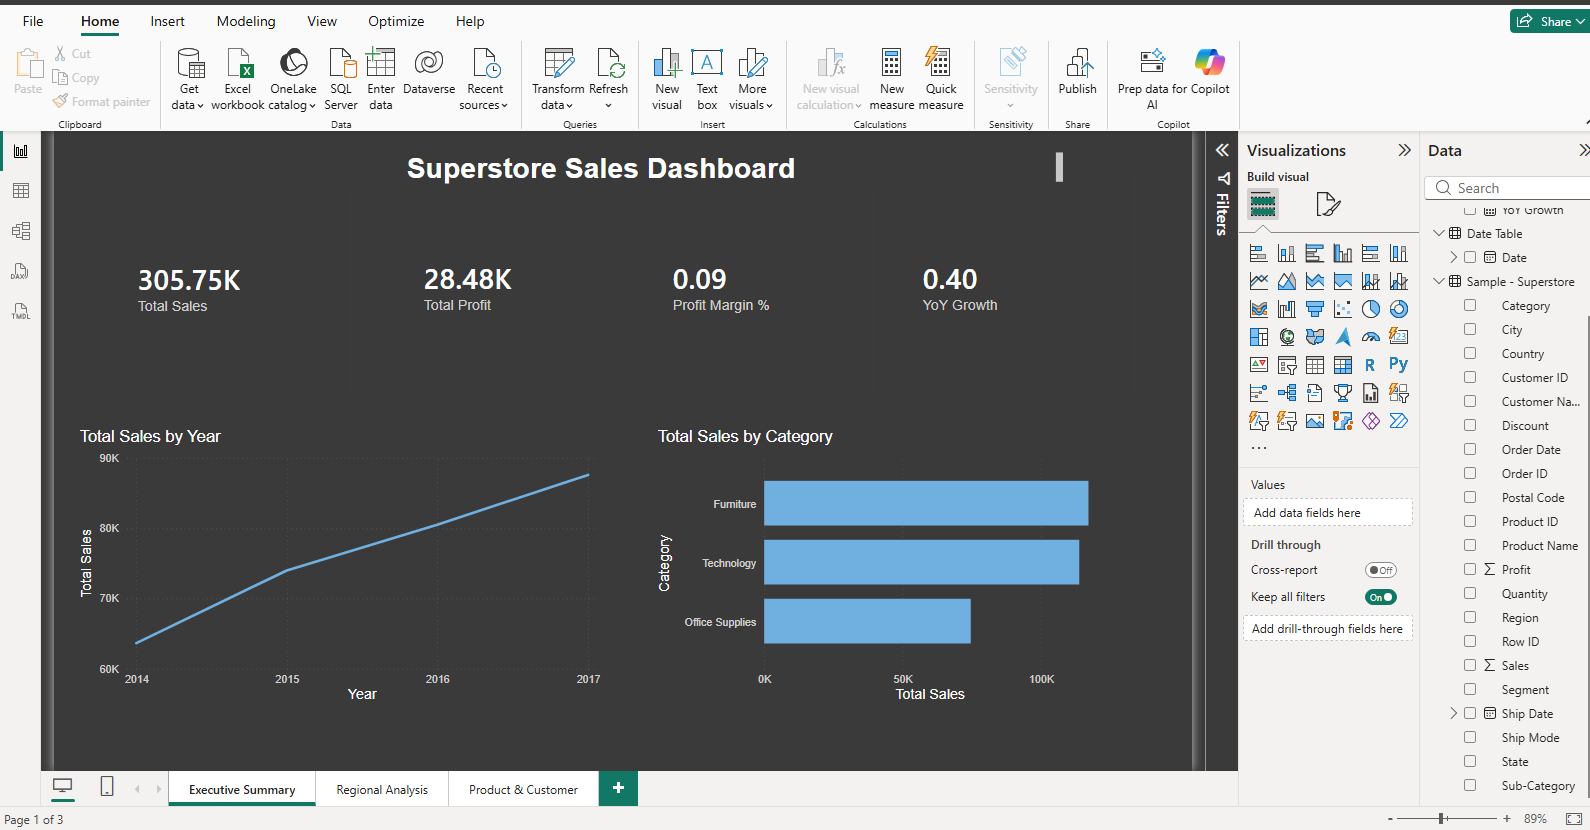

The dashboard page shown, as its layout file describes it:
{"tool":"powerbi","page":{"name":"Executive Summary","canvas":[1280,720],"ordinal":0},"visuals":[{"type":"cardVisual","fields":{"Data":["_Measures.Total Sales"]},"box":[64.3,34.7,281.4,278.9],"z":2},{"type":"cardVisual","fields":{"Data":["_Measures.Profit Margin %"]},"box":[666.5,34.2,280.3,279.1],"z":3},{"type":"cardVisual","fields":{"Data":["_Measures.Total Profit"]},"box":[386.2,34.2,280.3,279.1],"z":4},{"type":"cardVisual","fields":{"Data":["_Measures.YoY Growth"]},"box":[946.7,34.2,280.3,279.1],"z":5},{"type":"lineChart","fields":{"Category":["Date Table.Date.Variation.Date Hierarchy.Year","Date Table.Date.Variation.Date Hierarchy.Quarter","Date Table.Date.Variation.Date Hierarchy.Month","Date Table.Date.Variation.Date Hierarchy.Day"],"Y":["_Measures.Total Sales"]},"box":[23.1,332.9,363.7,313.6],"z":6},{"type":"clusteredBarChart","fields":{"Category":["Sample - Superstore.Category"],"Y":["_Measures.Total Sales"]},"box":[447.2,359.8,384.3,286.6],"z":7},{"type":"advancedSlicerVisual","fields":{"Values":["Date Table.Date"],"Label":["Min(Sample - Superstore.Region)"]},"box":[868.8,359.8,339.3,286.6],"z":8},{"type":"textbox","box":[100.2,19.3,1039.7,45],"z":9}]}

Visuals, with their boxes on the page's 1280x720 design canvas (x1, y1, x2, y2). These are canvas units, not pixel positions in the 1590x830 screenshot, which may show the page scaled, cropped or inside an application window:
cardVisual - _Measures.Total Sales: [64,35,346,314]
cardVisual - _Measures.Profit Margin %: [666,34,947,313]
cardVisual - _Measures.Total Profit: [386,34,666,313]
cardVisual - _Measures.YoY Growth: [947,34,1227,313]
lineChart - Date Table.Date.Variation.Date Hierarchy.Year x Date Table.Date.Variation.Date Hierarchy.Quarter: [23,333,387,646]
clusteredBarChart - Sample - Superstore.Category x _Measures.Total Sales: [447,360,832,646]
advancedSlicerVisual - Date Table.Date x Min(Sample - Superstore.Region): [869,360,1208,646]
textbox: [100,19,1140,64]
